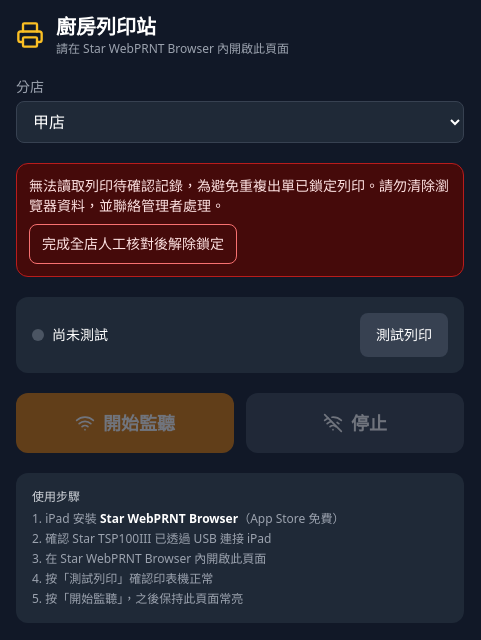
print station delayed sweep lifecycle › fails closed when pending print storage is malformed
This screenshot has width=481, height=640.
Expected: the text "無法讀取列印待確認記錄，為避免重複出單已鎖定列印。請勿清除瀏覽器資料，並聯絡管理者處理。" is shown, [29,176,451,216]
Expected: the button "開始監聽" is disabled, [16,393,234,453]
Click the button "完成全店人工核對後解除鎖定".
click(133, 244)  # box [29,224,237,264]
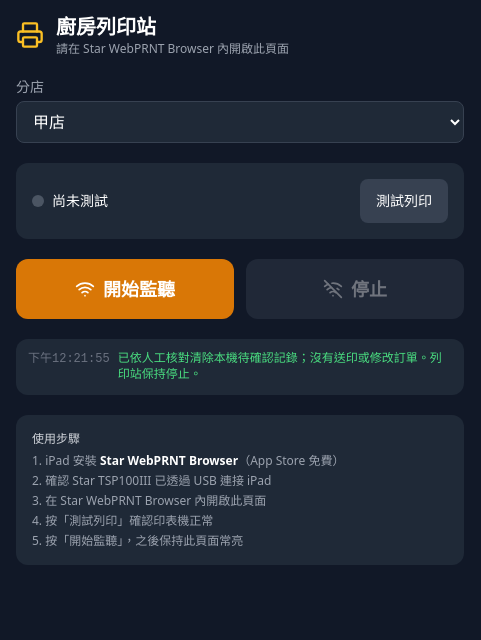
Now the text "無法讀取列印待確認記錄" is gone
Now the button "開始監聽" is enabled, box [16,259,234,319]
